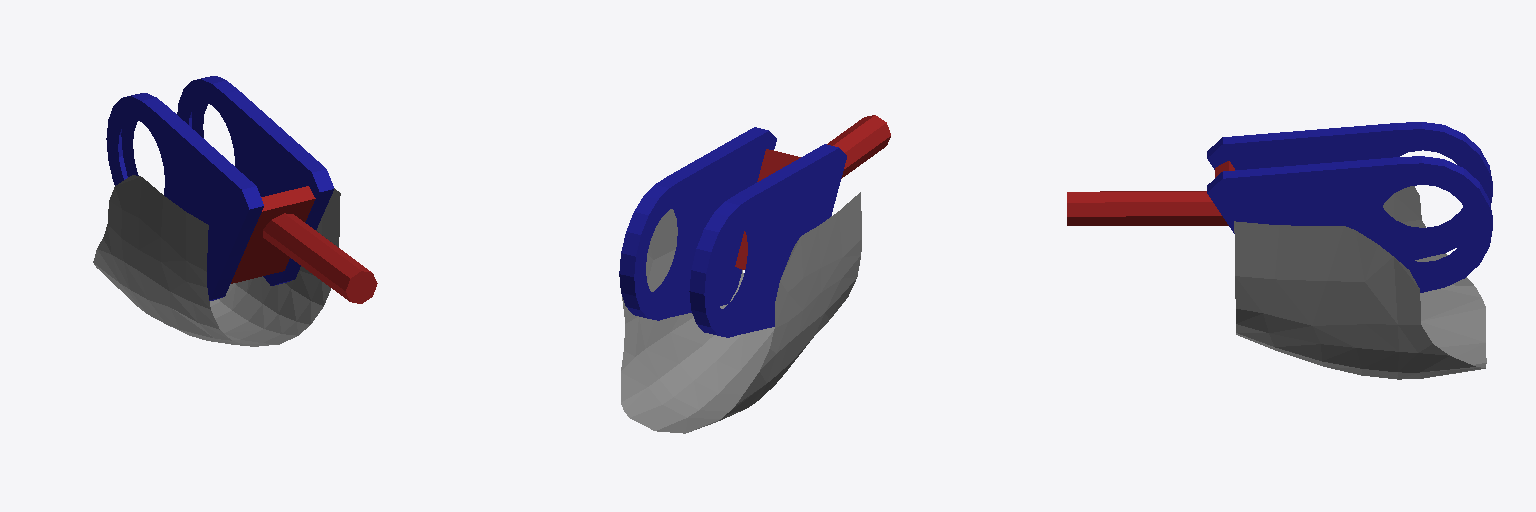
The model's file is R_KFE.obj.
The picture shows the model from 3 angles: view 1: azimuth 30°, elevation 25°; view 2: azimuth 150°, elevation 25°; view 3: azimuth 270°, elevation 25°; orthographic projection.
Bounding box in the file's own units: 4.02 × 5.61 × 9.58.